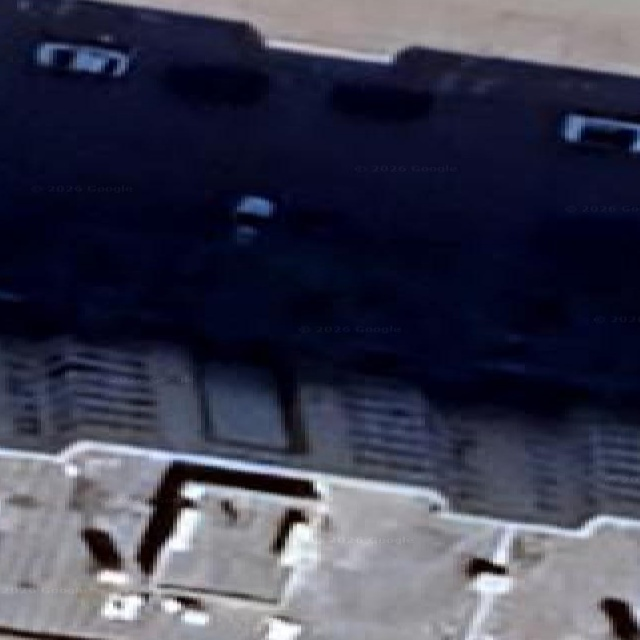car: (35, 40, 129, 76), (560, 112, 639, 154), (232, 195, 275, 243)
